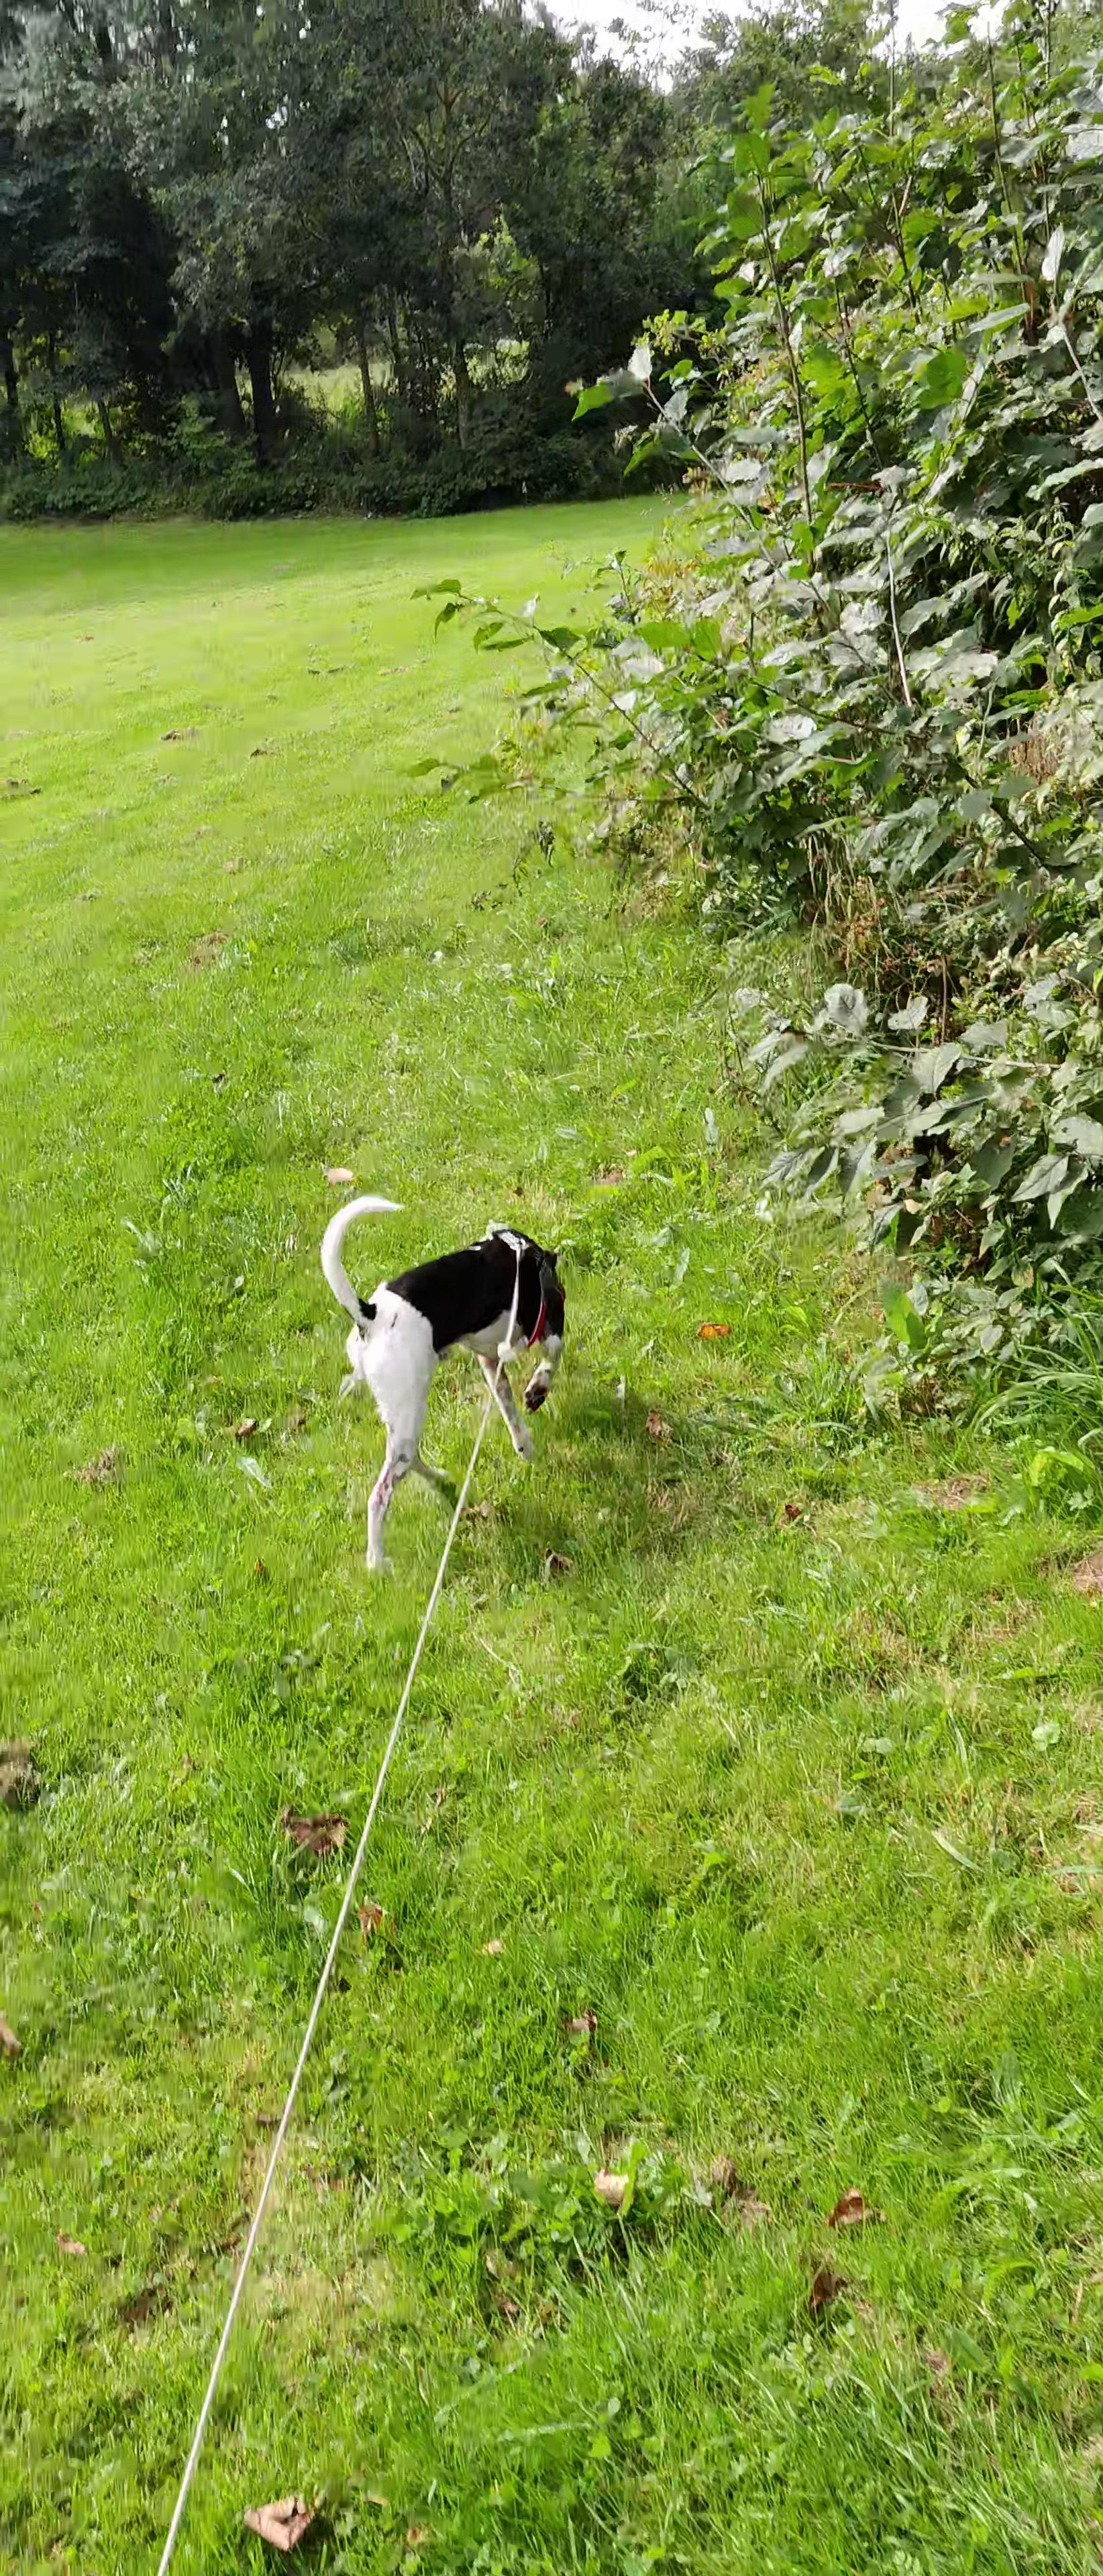Dog: (312, 1191, 567, 1577)
